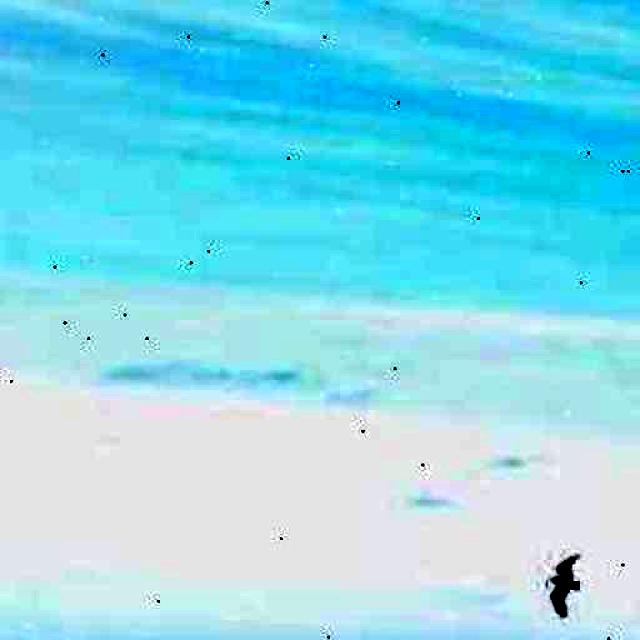airplane: (545, 551, 581, 618)
